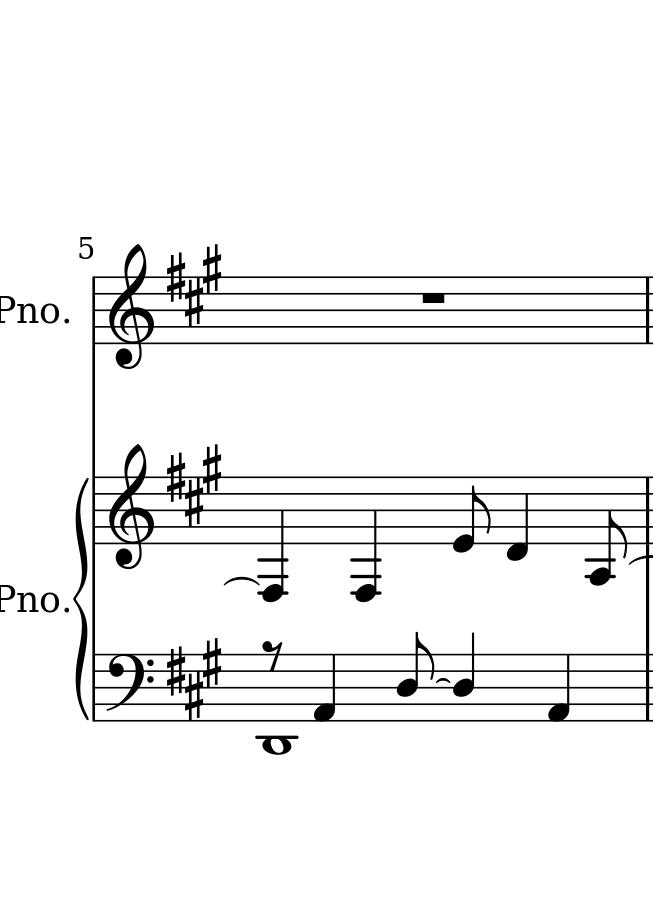1_-3: (256, 653, 301, 756)
4_-6: (351, 476, 382, 605), (259, 475, 290, 604)
4_1: (545, 653, 572, 724), (311, 653, 337, 724)
4_4: (451, 631, 476, 724)
5: (77, 234, 94, 261)
8_-1: (503, 474, 531, 564)
8_-4: (586, 475, 628, 586)
8_0: (452, 474, 490, 553)
8_4: (395, 632, 433, 723)
A_S: (165, 439, 226, 528), (163, 245, 225, 325), (165, 638, 222, 722)
Brace: (72, 470, 91, 722)
Fclef: (104, 652, 156, 725)
Gclef: (106, 442, 157, 572), (106, 243, 156, 371)
Pno: (1, 294, 59, 329), (1, 582, 59, 617)
Rests1: (418, 289, 449, 307)
Rests8: (260, 638, 285, 672)
Single_barline: (639, 654, 653, 725), (88, 476, 102, 546), (87, 276, 100, 346), (88, 653, 101, 723), (640, 277, 653, 344)
Slur: (222, 575, 260, 587)
